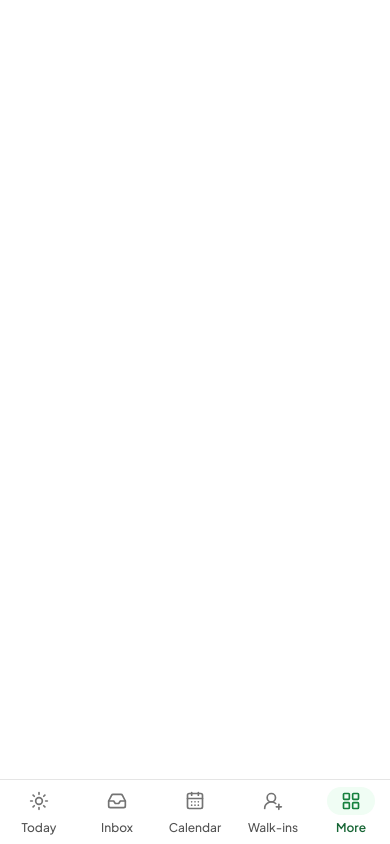
Dashboard bottom bar › opens every page from More, with the current one marked, and closes on Escape
Click the button "More" at (351,812), box [312, 780, 389, 843]
(page scrolled)
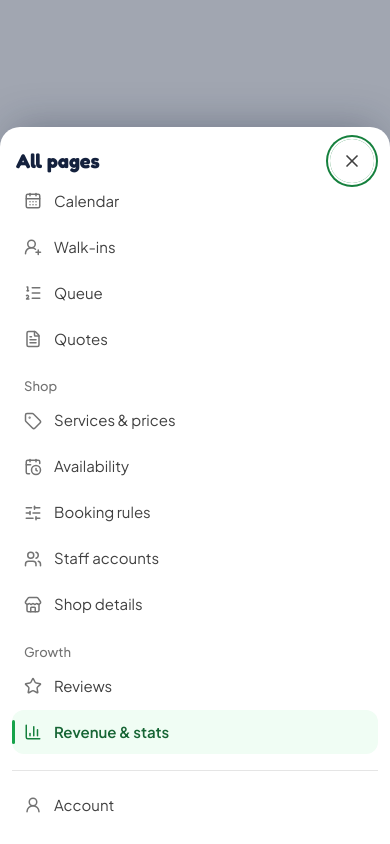
Expected: the link "Booking rules" is shown, [24, 502, 151, 522]
Expected: the link "Account" is shown, [24, 795, 114, 814]
Press Escape
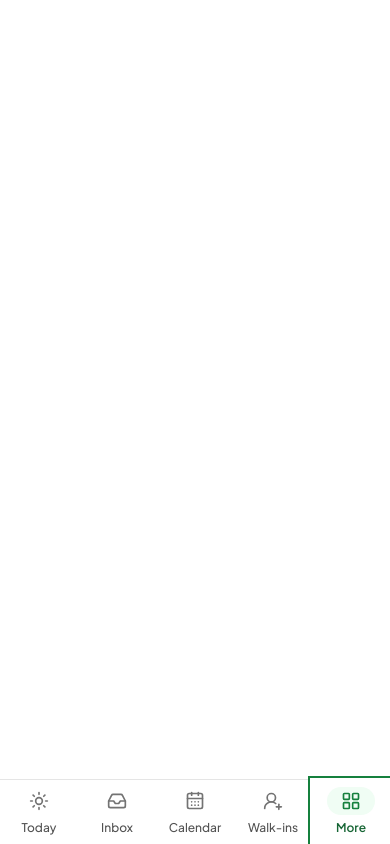
Expected: the dialog is gone
